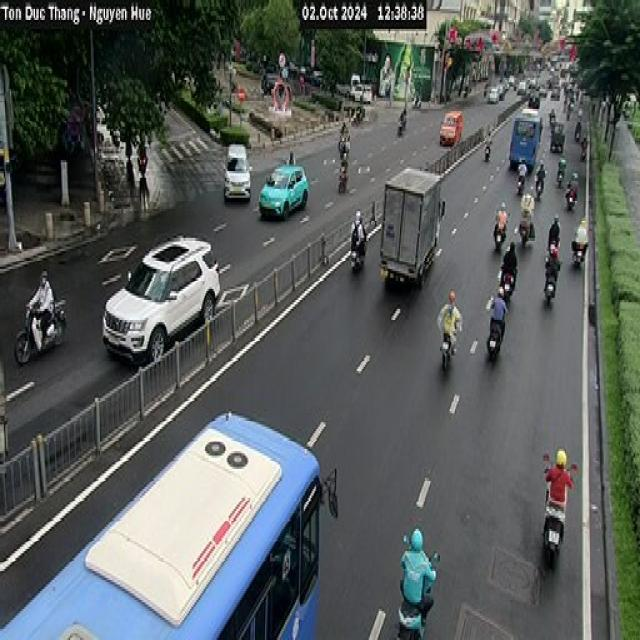bus: (0, 409, 321, 638), (506, 100, 546, 184)
car: (113, 247, 229, 361), (258, 162, 308, 220), (224, 133, 252, 218), (433, 109, 467, 149), (254, 200, 260, 204)
container-truck: (377, 162, 445, 289)
motorcycle: (542, 455, 578, 569), (14, 298, 66, 364), (383, 587, 438, 640), (486, 311, 505, 360), (542, 256, 560, 306), (439, 325, 456, 371), (350, 231, 368, 273), (498, 264, 516, 304), (570, 231, 588, 267), (477, 139, 497, 170), (517, 213, 535, 247), (492, 213, 508, 251), (392, 116, 414, 134), (335, 134, 353, 155), (337, 173, 354, 193)
person: (392, 512, 433, 608), (26, 269, 54, 351), (548, 439, 572, 527), (437, 289, 462, 355), (487, 284, 508, 342), (350, 209, 368, 264), (545, 243, 565, 292), (504, 240, 520, 282), (495, 201, 513, 238), (522, 178, 536, 222), (580, 212, 594, 252)
